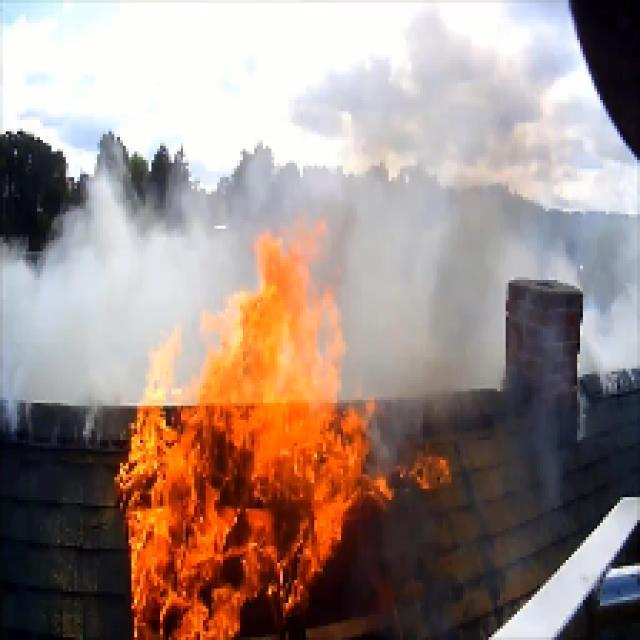Fire: (183, 326, 341, 582)
Smoke: (319, 144, 520, 340), (9, 228, 140, 378), (366, 52, 509, 120)
